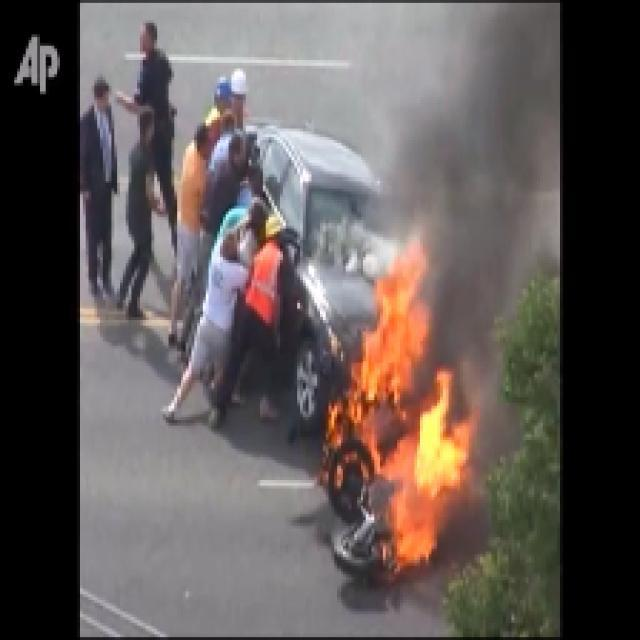Fire: (343, 350, 446, 560)
Smoke: (428, 64, 536, 308)
